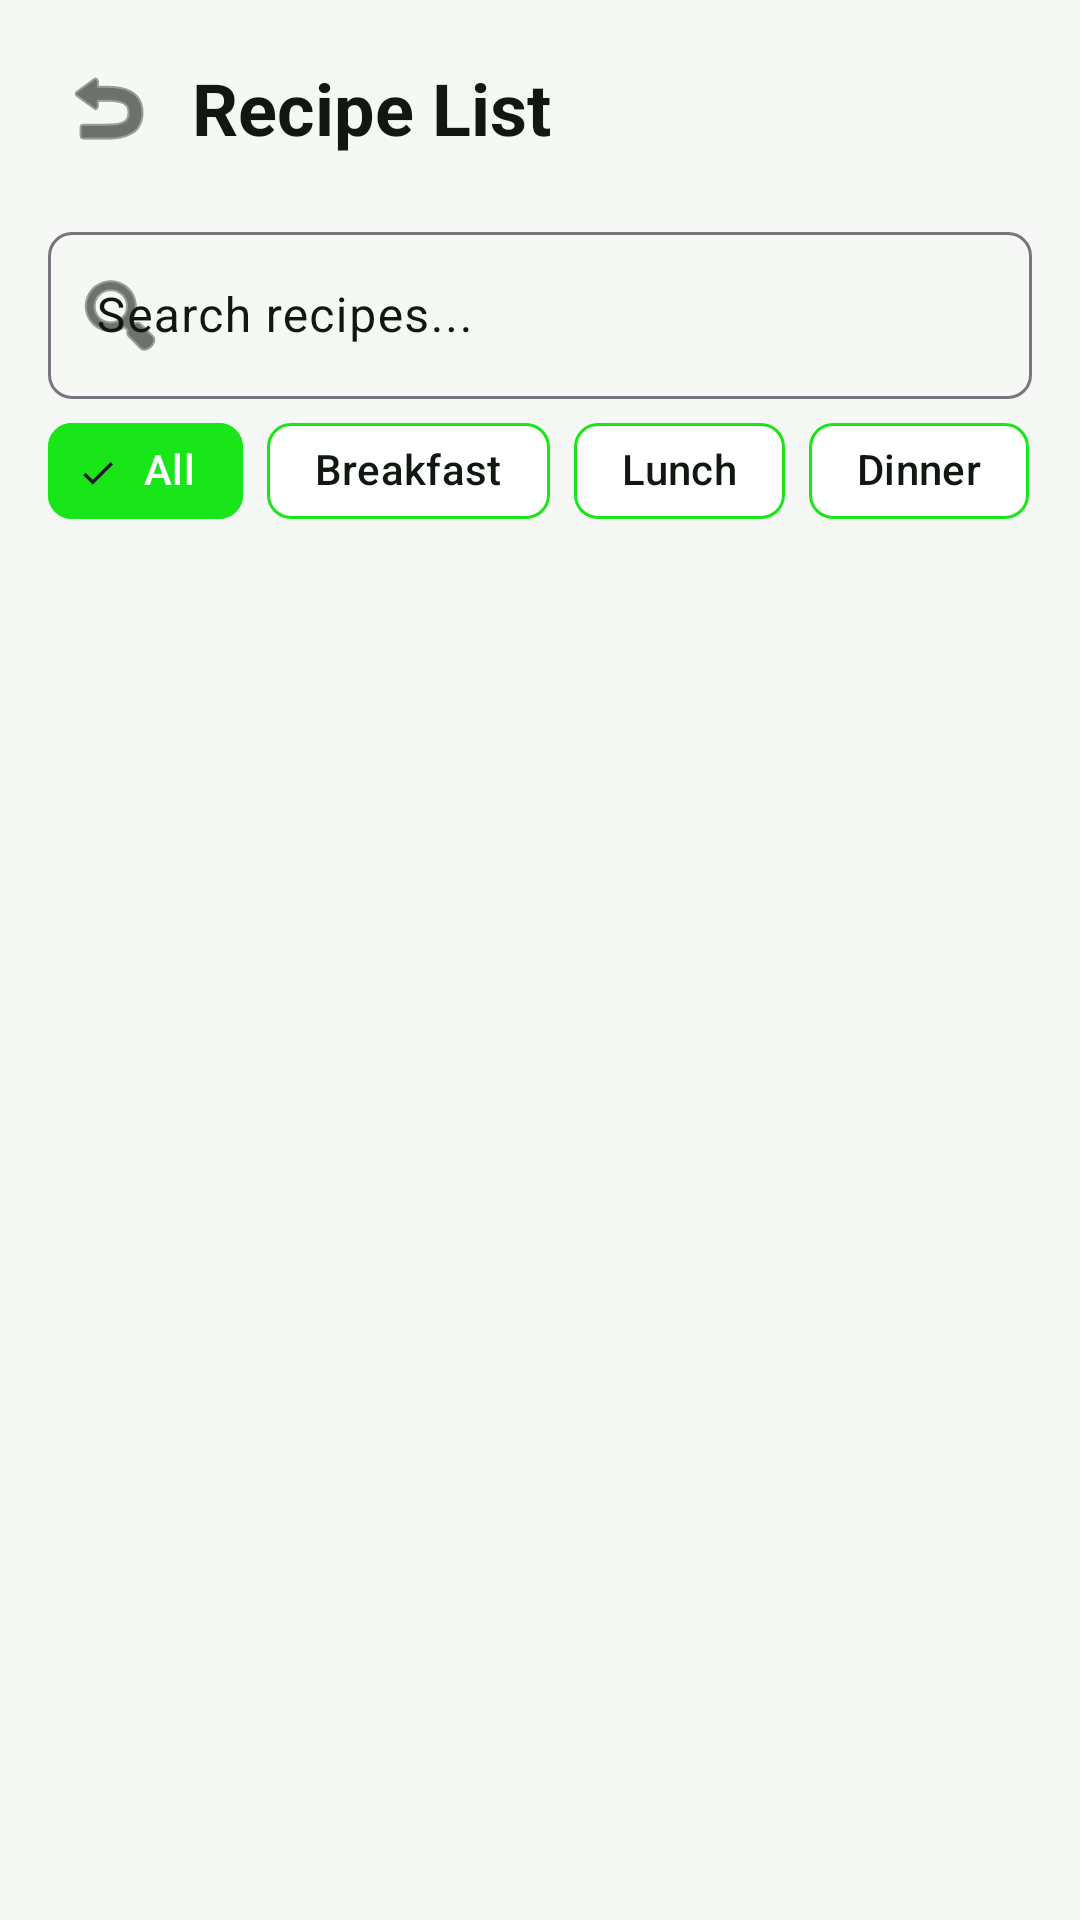

Locate icon controls on the screen. Image size 1080 x 1920, boxes as [x1, y1, x2, y2].
Back: [75, 77, 144, 140]
